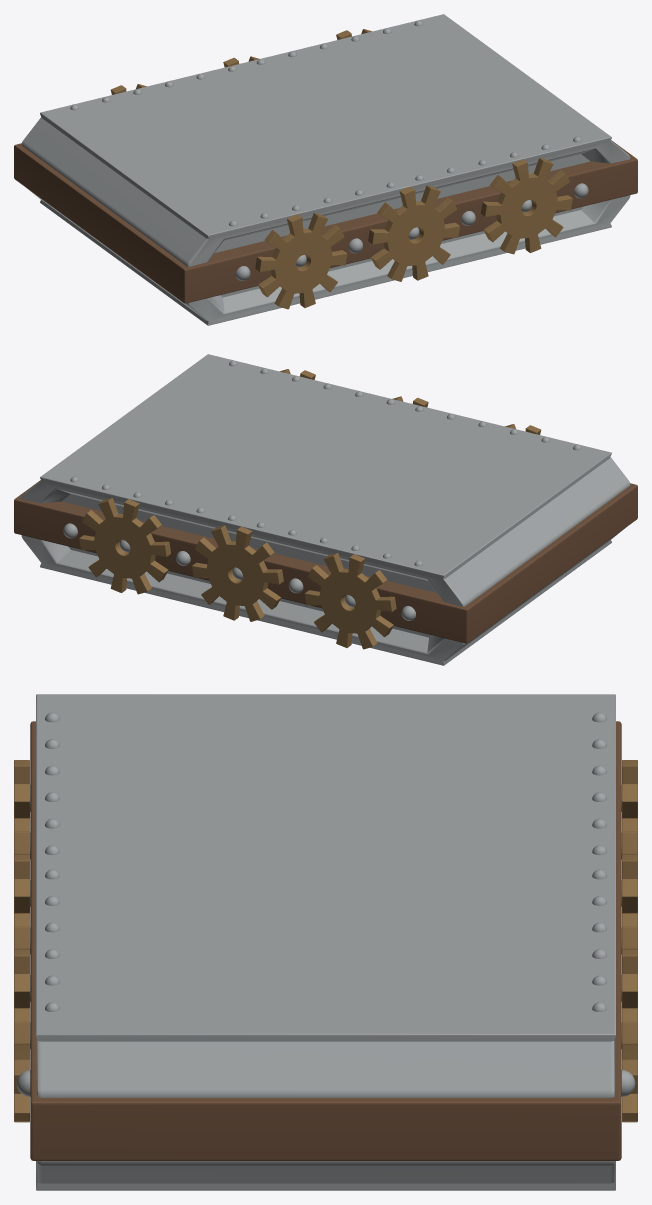
The model's file is platform.fbx.
The picture shows the model from 3 angles, top to bottom: view 1: azimuth 30°, elevation 25°; view 2: azimuth 150°, elevation 25°; view 3: azimuth 270°, elevation 25°; orthographic projection. The views are drawn at different scales.
Visible parts, largest first — view 1: mainPlatform, woodBorder, cog1L, cog2L, cog3L, upLowScrews, sideScrews; view 2: mainPlatform, woodBorder, cog1R, cog2R, cog3R, upLowScrews, sideScrews; view 3: mainPlatform, woodBorder, upLowScrews, cog3L, cog3R, cog2L, cog2R, cog1L, cog1R, sideScrews.
Part boxes in pixels (x1,y1,x2,y2): mainPlatform: (21, 14, 630, 325); woodBorder: (14, 140, 637, 303); cog1L: (255, 213, 347, 309); cog2L: (368, 185, 459, 281); cog3L: (481, 158, 572, 254); upLowScrews: (70, 20, 581, 226); sideScrews: (236, 183, 588, 280); mainPlatform: (21, 354, 630, 665); woodBorder: (14, 480, 637, 643); cog1R: (304, 553, 396, 649); cog2R: (192, 525, 283, 621); cog3R: (79, 498, 170, 594); upLowScrews: (70, 360, 581, 566); sideScrews: (63, 523, 415, 620); mainPlatform: (36, 694, 615, 1190); woodBorder: (30, 721, 621, 1160); upLowScrews: (45, 712, 606, 1011); cog3L: (14, 949, 29, 1122); cog3R: (622, 949, 637, 1122); cog2L: (14, 854, 29, 949); cog2R: (622, 854, 637, 949); cog1L: (14, 760, 29, 854); cog1R: (622, 760, 637, 854); sideScrews: (16, 785, 635, 1096).
Size of the model in its own units: 208 by 42.9 by 144.
